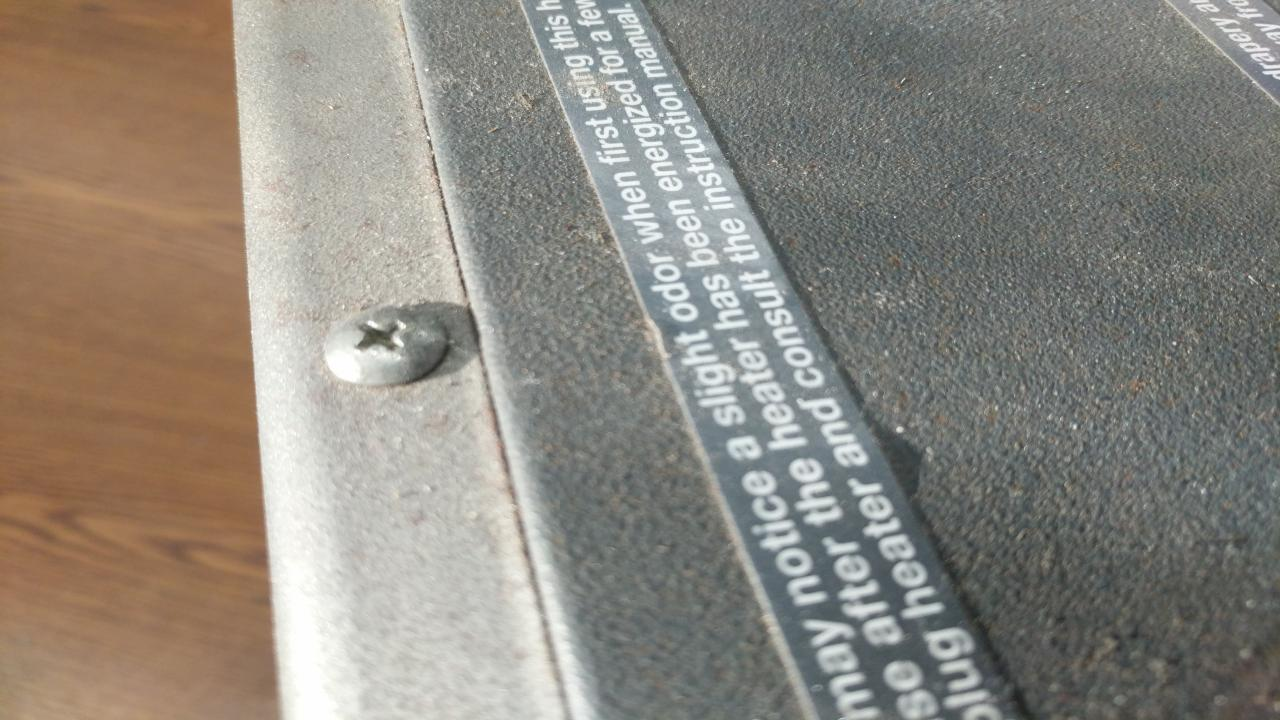CRS: (315, 295, 457, 389)
